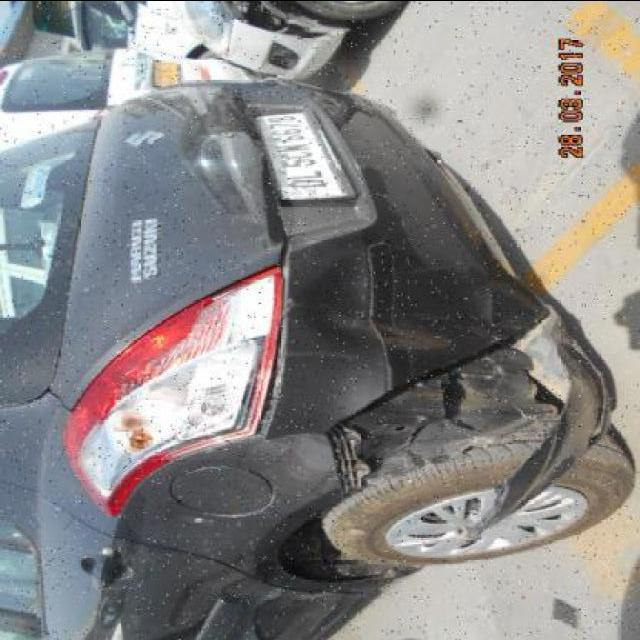rear-bumper-dent: (254, 187, 588, 474)
